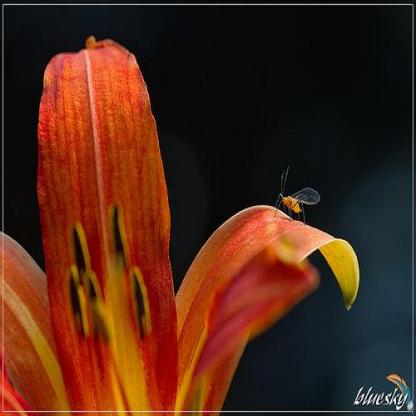aphid: (275, 164, 319, 230)
